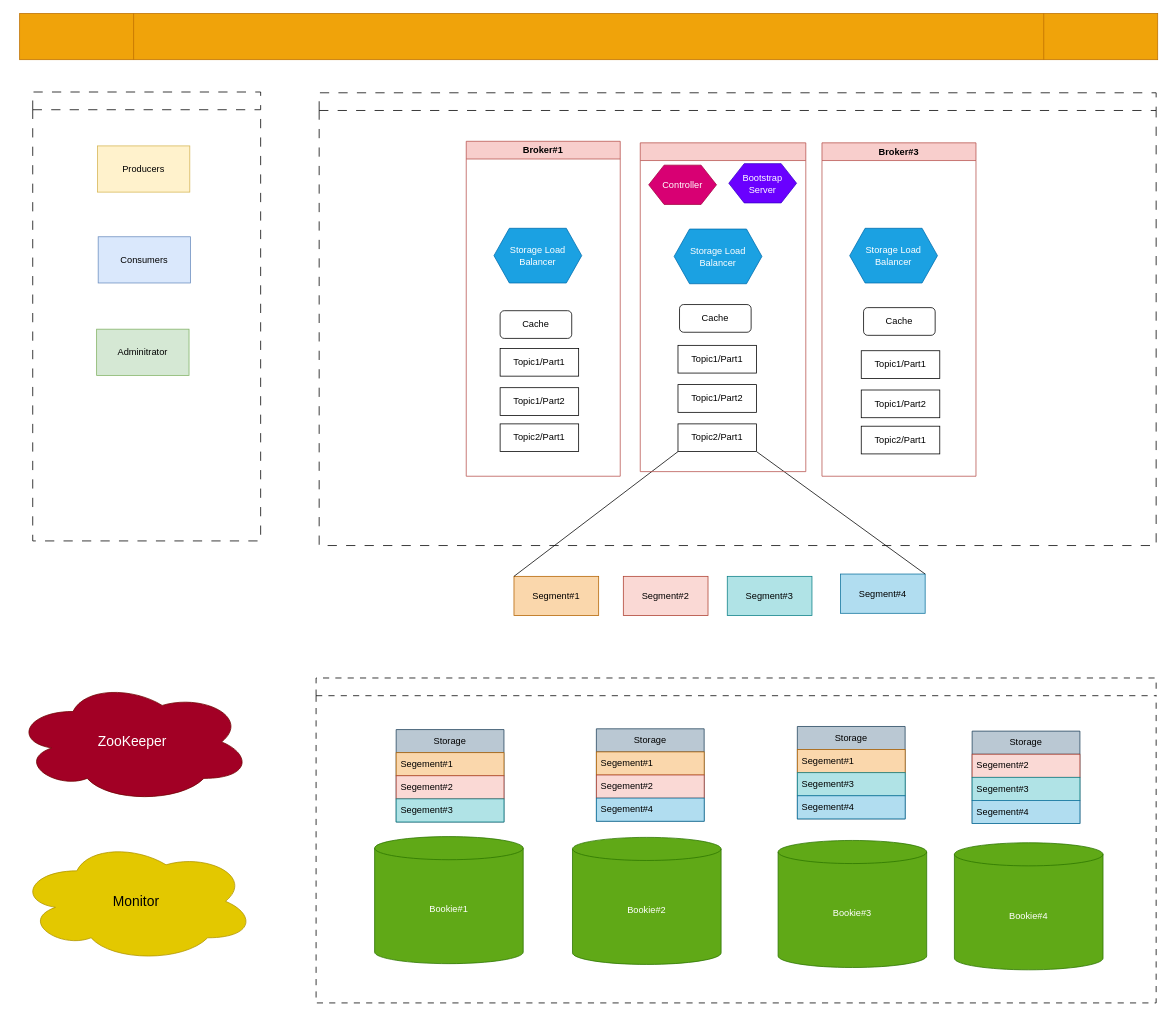
Some shapes in this 1171 by 1016 pixel diagram are drawn without their labels. The shapes that lost their labels are listed below. From the top down, each one's box as (x1, y1, x2, y2) in pixels, then its label:
(19, 13, 1158, 60): PigeonMQ Cluster
(32, 91, 261, 541): Clients
(639, 142, 806, 472): Broker#2
(318, 92, 1156, 546): Service Layer
(315, 677, 1156, 1003): Storgae Layer
